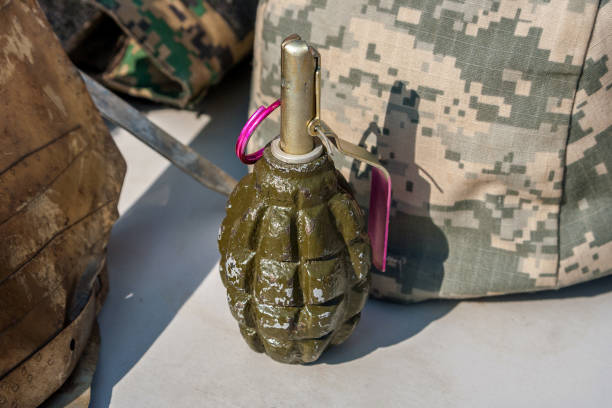e1: (218, 36, 391, 361)
